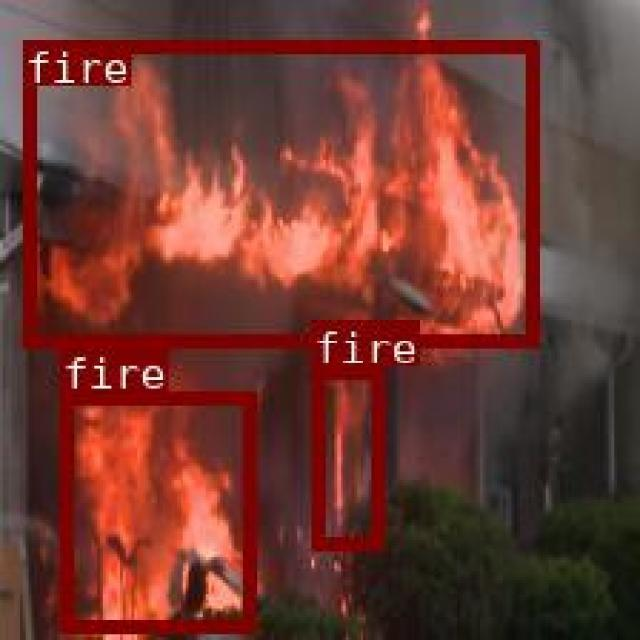fire: (22, 38, 535, 344), (60, 391, 253, 631), (310, 364, 382, 546)
